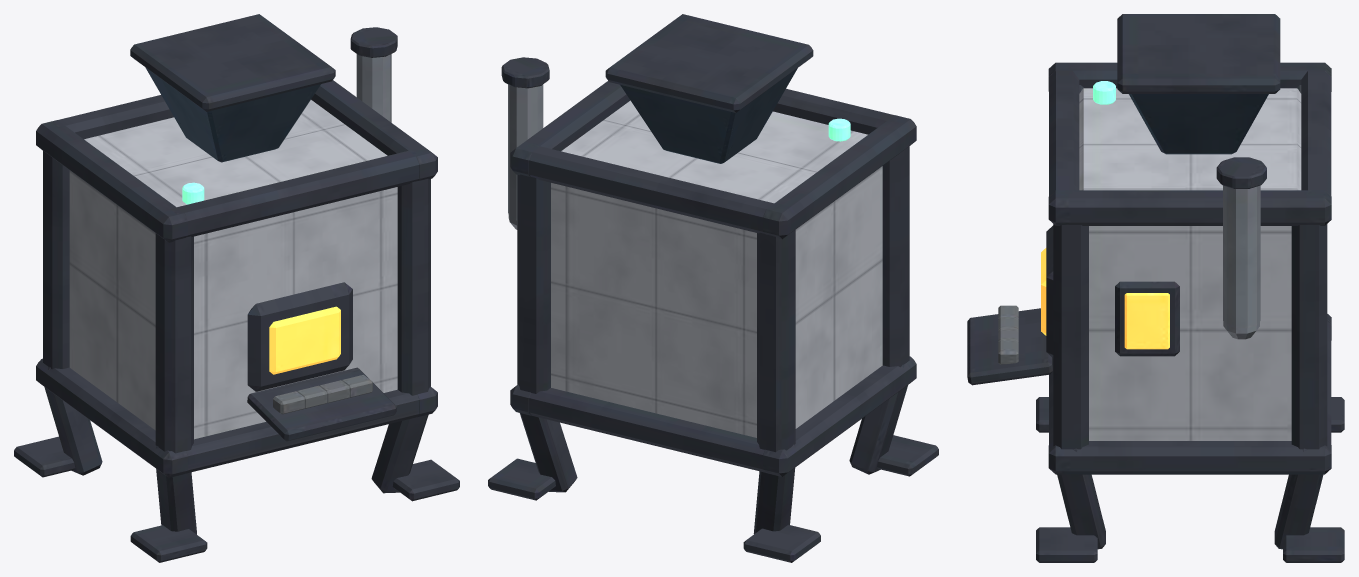
The model's file is ore-processor.glb.
3 renders of one model, left to right at view 1: azimuth 30°, elevation 25°; view 2: azimuth 150°, elevation 25°; view 3: azimuth 270°, elevation 25°, orthographic. The views are drawn at different scales.
Parts seen in each view (by area): view 1: BodyBody, BodyFrame, HopperLip, Hopper, MouthFrame, BrickTray, FurnaceMouth, Leg2, Leg1, Leg3, Exhaust, Foot3 (+4 smaller); view 2: BodyBody, BodyFrame, HopperLip, Hopper, Exhaust, Leg0, Leg3, Leg1, Foot1, Foot0, Foot3, ExhaustCap; view 3: BodyBody, BodyFrame, HopperLip, Hopper, Exhaust, BrickTray, SideWindowPane, SideWindowFrame, Leg0, Leg2, Foot0, Foot2 (+6 smaller).
Boxes of the visible parts, bbox=[...] form: BodyBody: bbox=[69, 100, 397, 439]; BodyFrame: bbox=[36, 80, 437, 477]; HopperLip: bbox=[130, 14, 335, 111]; Hopper: bbox=[145, 67, 320, 162]; MouthFrame: bbox=[247, 282, 352, 391]; BrickTray: bbox=[247, 367, 396, 441]; FurnaceMouth: bbox=[269, 306, 340, 374]; Leg2: bbox=[371, 414, 428, 493]; Leg1: bbox=[44, 366, 102, 475]; Leg3: bbox=[155, 446, 196, 534]; Exhaust: bbox=[356, 54, 391, 122]; Foot3: bbox=[130, 525, 207, 562]; BodyBody: bbox=[551, 100, 882, 437]; BodyFrame: bbox=[510, 81, 916, 476]; HopperLip: bbox=[605, 14, 813, 112]; Hopper: bbox=[620, 68, 797, 163]; Exhaust: bbox=[508, 84, 543, 229]; Leg0: bbox=[520, 413, 577, 492]; Leg3: bbox=[849, 364, 907, 474]; Leg1: bbox=[753, 444, 795, 533]; Foot1: bbox=[743, 524, 820, 562]; Foot0: bbox=[488, 458, 555, 500]; Foot3: bbox=[877, 435, 938, 476]; ExhaustCap: bbox=[501, 57, 549, 88]; BodyBody: bbox=[1079, 88, 1301, 440]; BodyFrame: bbox=[1048, 62, 1331, 474]; HopperLip: bbox=[1117, 14, 1280, 93]; Hopper: bbox=[1129, 94, 1268, 154]; Exhaust: bbox=[1223, 185, 1260, 339]; BrickTray: bbox=[967, 308, 1052, 385]; SideWindowPane: bbox=[1124, 293, 1169, 349]; SideWindowFrame: bbox=[1115, 281, 1179, 356]; Leg0: bbox=[1274, 448, 1323, 549]; Leg2: bbox=[1057, 448, 1105, 549]; Foot0: bbox=[1283, 527, 1344, 562]; Foot2: bbox=[1036, 527, 1097, 562].
Bounding box in the file's own units: 2.37 × 2.88 × 2.2.
7 materials, 7 textured.
